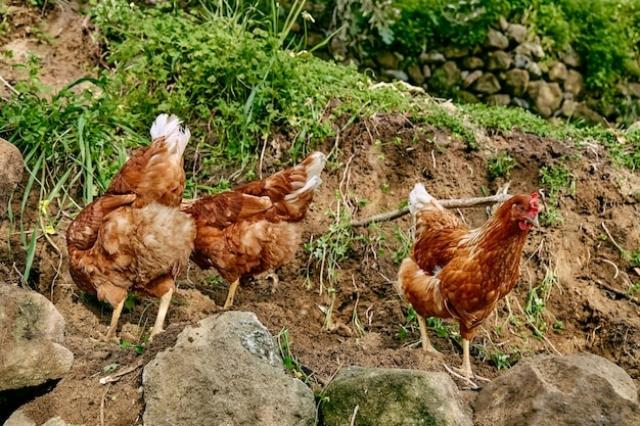Chicken: (66, 114, 197, 344), (395, 182, 539, 379), (179, 151, 324, 308)
